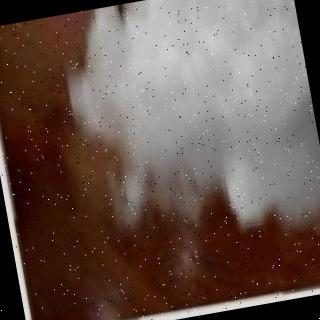smoke: (78, 0, 320, 255)
